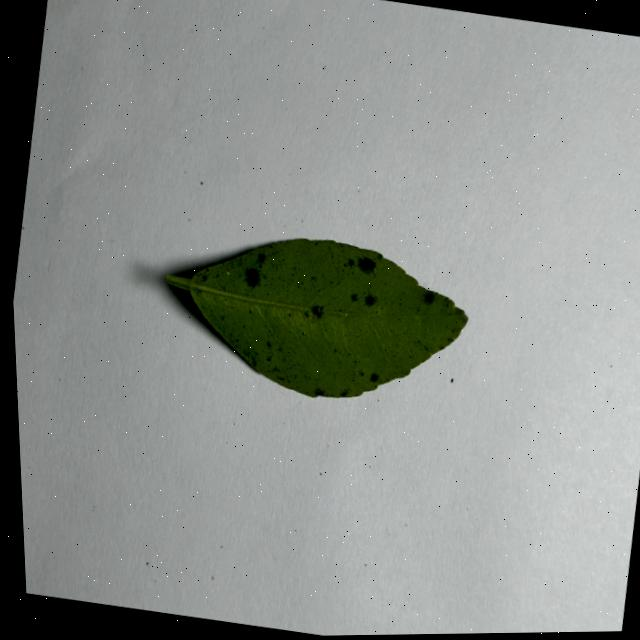sooty_mold: (166, 239, 467, 398)
